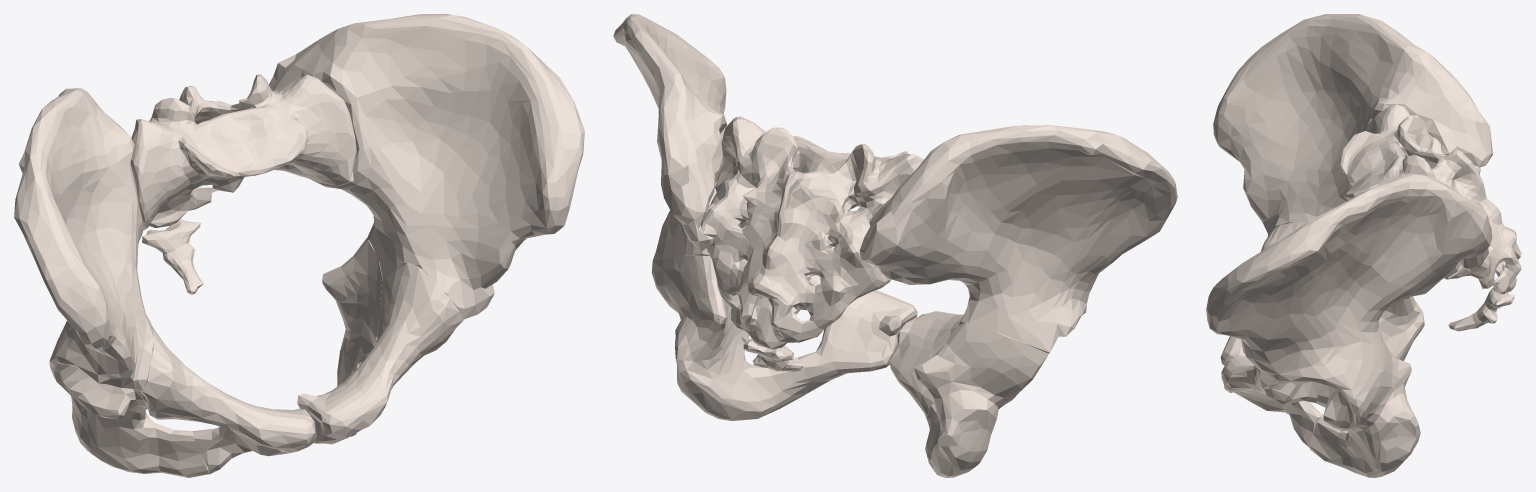
File: VH_F_Pelvis_0.2.glb
The picture shows the model from 3 angles, left to right: view 1: azimuth 30°, elevation 25°; view 2: azimuth 150°, elevation 25°; view 3: azimuth 270°, elevation 25°; orthographic projection. The views are drawn at different scales.
Visible parts, largest first — view 1: VH_F_ilium_compact_bone_L, VH_F_ilium_compact_bone_R, VH_F_sacrum, VH_F_pubis_compact_bone_L, VH_F_pubis_compact_bone_R, VH_F_ischium_compact_bone_R, VH_F_ischium_compact_bone_L, VH_F_coccyx; view 2: VH_F_ilium_compact_bone_R, VH_F_sacrum, VH_F_ilium_compact_bone_L, VH_F_ischium_compact_bone_L, VH_F_ischium_compact_bone_R, VH_F_pubis_compact_bone_L, VH_F_pubis_compact_bone_R, VH_F_coccyx; view 3: VH_F_ilium_compact_bone_L, VH_F_ilium_compact_bone_R, VH_F_sacrum, VH_F_ischium_compact_bone_L, VH_F_pubis_compact_bone_L, VH_F_ischium_compact_bone_R, VH_F_coccyx, VH_F_pubis_compact_bone_R.
Boxes of the visible parts, x1,y1,x2,y2 form: VH_F_ilium_compact_bone_L: [269, 14, 584, 319]; VH_F_ilium_compact_bone_R: [14, 88, 153, 391]; VH_F_sacrum: [130, 74, 356, 230]; VH_F_pubis_compact_bone_L: [297, 263, 463, 444]; VH_F_pubis_compact_bone_R: [140, 325, 316, 474]; VH_F_ischium_compact_bone_R: [49, 362, 209, 477]; VH_F_ischium_compact_bone_L: [322, 238, 382, 436]; VH_F_coccyx: [142, 219, 203, 294]; VH_F_ilium_compact_bone_R: [859, 125, 1177, 353]; VH_F_sacrum: [701, 116, 923, 349]; VH_F_ilium_compact_bone_L: [613, 14, 745, 261]; VH_F_ischium_compact_bone_L: [651, 255, 808, 420]; VH_F_ischium_compact_bone_R: [914, 322, 1048, 477]; VH_F_pubis_compact_bone_L: [741, 259, 917, 393]; VH_F_pubis_compact_bone_R: [889, 311, 963, 421]; VH_F_coccyx: [741, 336, 803, 371]; VH_F_ilium_compact_bone_L: [1206, 173, 1492, 401]; VH_F_ilium_compact_bone_R: [1213, 14, 1492, 236]; VH_F_sacrum: [1340, 104, 1521, 294]; VH_F_ischium_compact_bone_L: [1309, 340, 1420, 477]; VH_F_pubis_compact_bone_L: [1221, 357, 1322, 447]; VH_F_ischium_compact_bone_R: [1378, 296, 1424, 360]; VH_F_coccyx: [1448, 287, 1514, 331]; VH_F_pubis_compact_bone_R: [1220, 221, 1306, 365].
Bounding box in the file's own units: 0.3165 × 0.2117 × 0.183.
